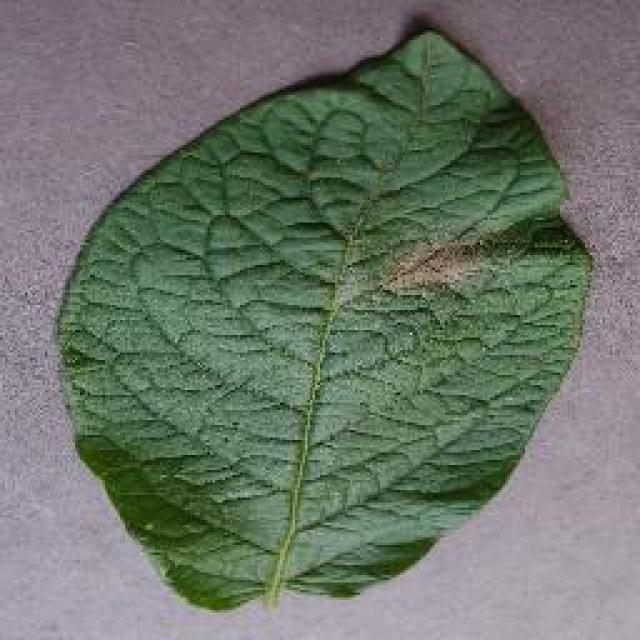late_blight: (50, 25, 598, 615)
